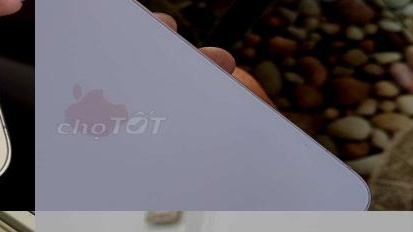scratch: (302, 143, 312, 148)
